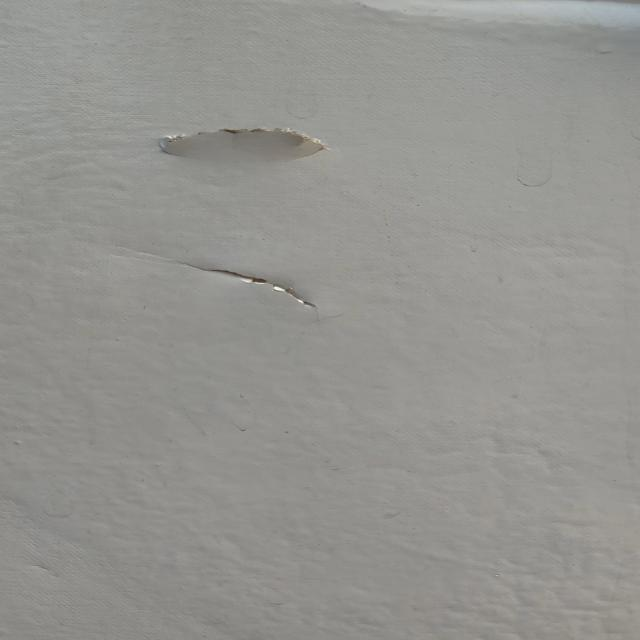Scratches: (141, 249, 356, 323), (141, 106, 332, 168)
